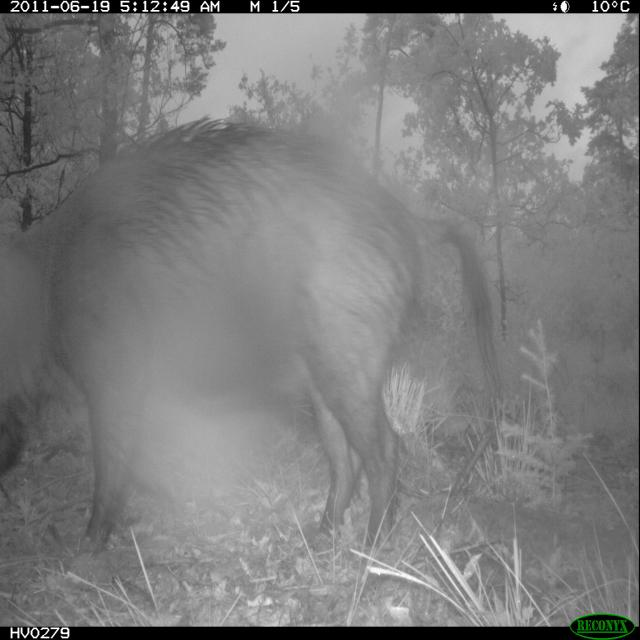boar: (0, 104, 510, 603)
